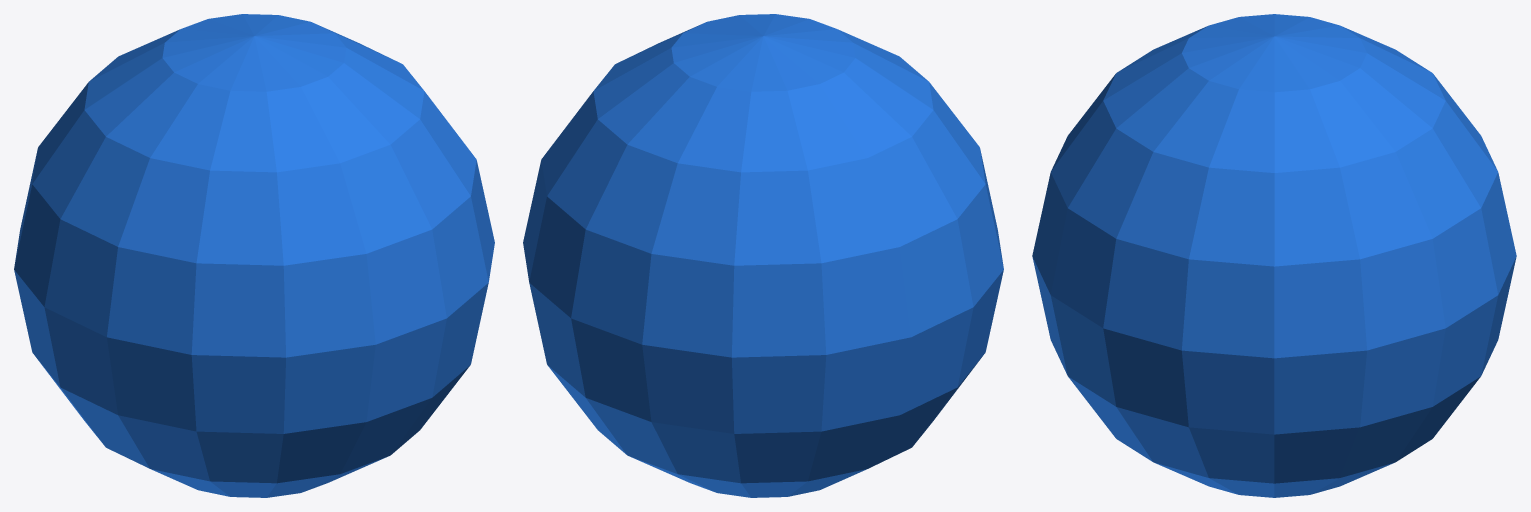
File: shild.fbx
The picture shows the model from 3 angles, left to right: view 1: azimuth 30°, elevation 25°; view 2: azimuth 150°, elevation 25°; view 3: azimuth 270°, elevation 25°; orthographic projection.
Visible parts, largest first — view 1: Sphere; view 2: Sphere; view 3: Sphere.
Boxes of the visible parts, x1,y1,x2,y2 form: Sphere: [14, 14, 494, 497]; Sphere: [523, 14, 1003, 497]; Sphere: [1032, 14, 1516, 497].
Bounding box in the file's own units: 276 × 276 × 276.
